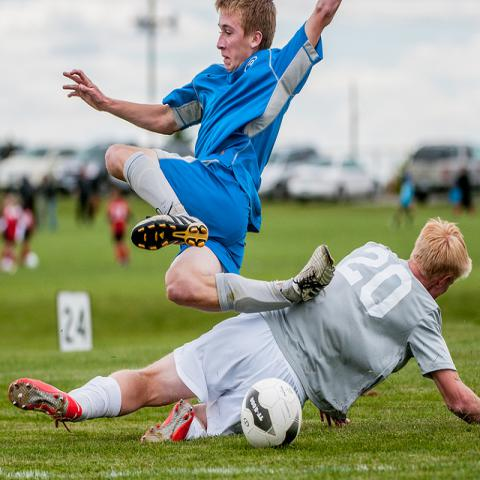car: (402, 145, 479, 210), (287, 154, 381, 206), (257, 146, 318, 201), (77, 144, 112, 195), (0, 154, 49, 190), (38, 149, 74, 189)
